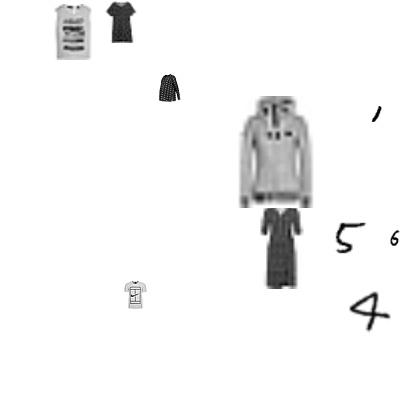1: (366, 103, 388, 125)
4: (340, 280, 396, 336)
5: (324, 214, 366, 256)
6: (383, 228, 405, 250)
Coat: (220, 96, 332, 208)
Dress: (240, 205, 324, 289), (100, 1, 142, 43)
Shirt: (45, 4, 101, 60), (156, 74, 184, 102)
T-shirt/top: (121, 281, 149, 309)
